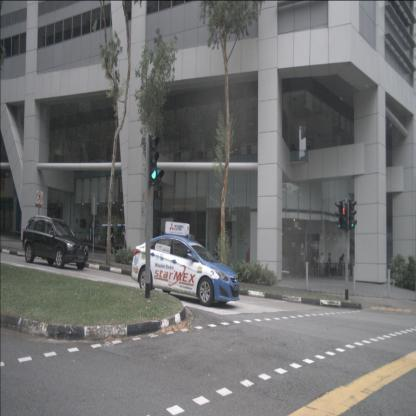human-pedestrian-adult: (299, 243, 305, 277), (324, 252, 332, 276), (313, 250, 320, 276), (338, 254, 346, 276), (319, 252, 325, 276), (156, 228, 160, 260), (161, 230, 165, 260), (349, 253, 354, 276), (122, 226, 126, 252)
vehicle-car: (131, 234, 239, 306), (22, 216, 89, 270)
